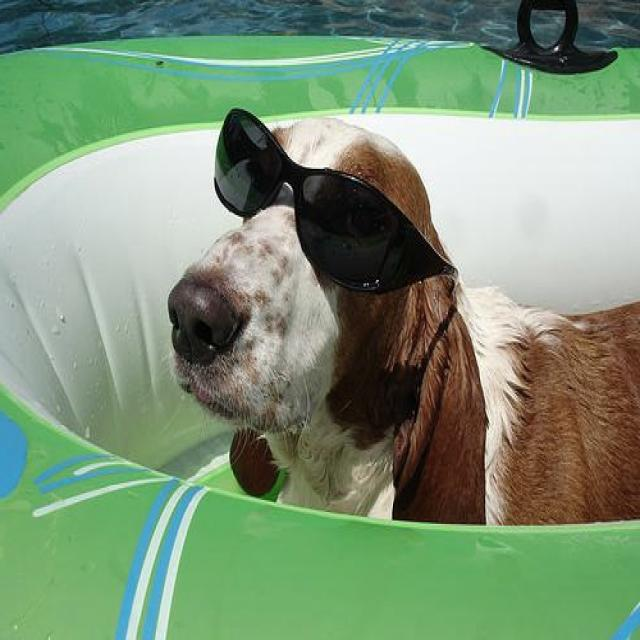basset: (165, 104, 640, 526)
